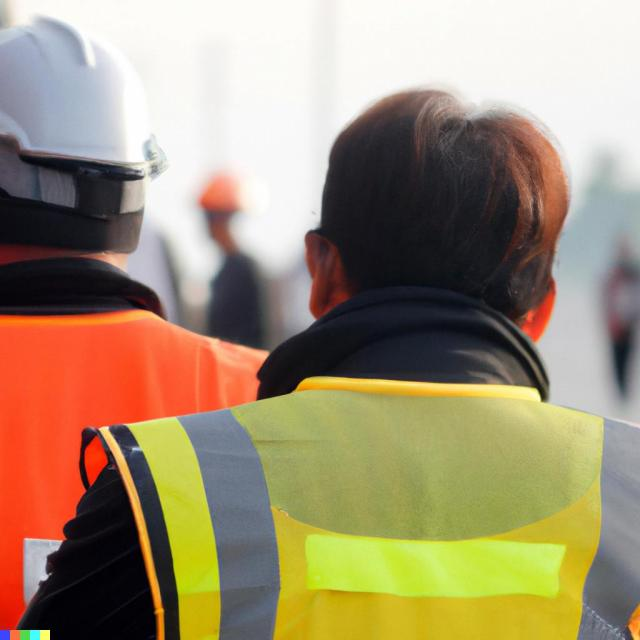Reflective-Jacket: (44, 354, 638, 637), (0, 249, 271, 640)
Safety-Helmet: (0, 10, 174, 177)
